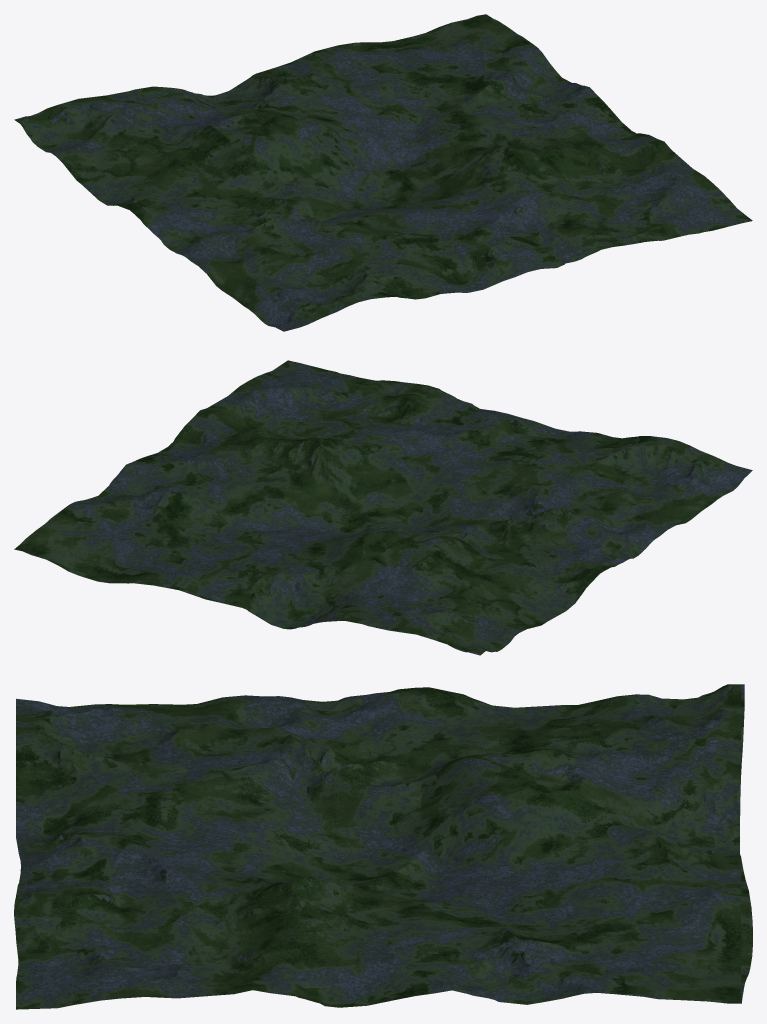
Rendered from Landscape.obj.
3 views of the same model, one above another, from view 1: azimuth 30°, elevation 25°; view 2: azimuth 150°, elevation 25°; view 3: azimuth 270°, elevation 25° (orthographic). The views are drawn at different scales.
Parts seen in each view (by area): view 1: ALPHS_Noise_Mountains; view 2: ALPHS_Noise_Mountains; view 3: ALPHS_Noise_Mountains.
Part boxes in pixels (x1,y1,x2,y2): ALPHS_Noise_Mountains: (14, 14, 752, 331); ALPHS_Noise_Mountains: (14, 360, 752, 655); ALPHS_Noise_Mountains: (14, 684, 752, 1009).
Size of the model in its own units: 8.51 by 0.7189 by 8.59.
1 material, 1 textured.
